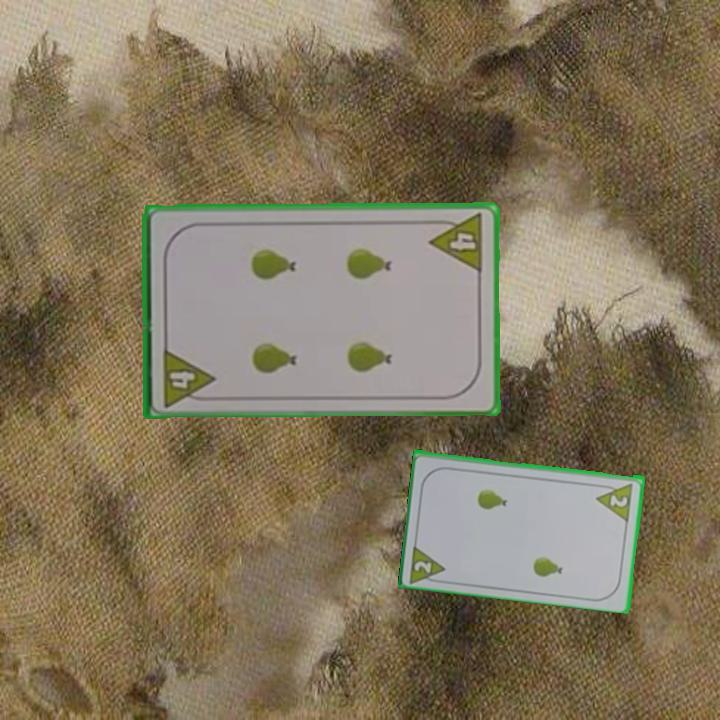2p: (406, 539, 449, 586), (593, 479, 636, 522)
4p: (426, 210, 487, 275), (159, 344, 217, 409)
